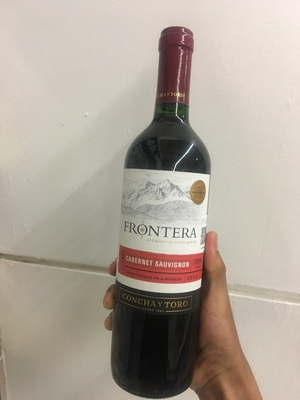frontera cabernet sauvignon: (116, 32, 209, 400)
